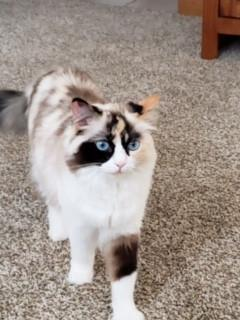ragdoll: (65, 96, 163, 187)
